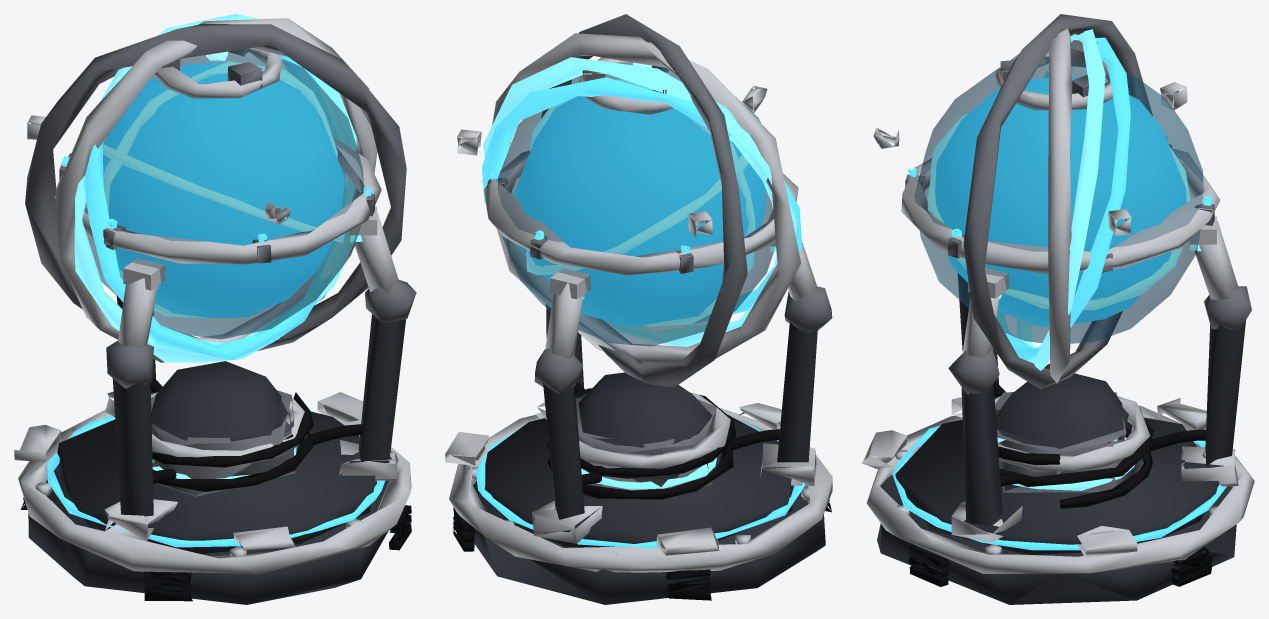
File: orb.glb
The picture shows the model from 3 angles, left to right: view 1: azimuth 30°, elevation 25°; view 2: azimuth 150°, elevation 25°; view 3: azimuth 270°, elevation 25°; orthographic projection. The views are drawn at different scales.
Visible parts, largest first — view 1: orbe_cascara, orbe_plasma, jaula_3, base_hombro, base_aro, jaula_1, base, pedestal_copa, banda, jaula_4, jaula_2, garra_baja_3 (+21 smaller); view 2: orbe_cascara, orbe_plasma, base_hombro, jaula_1, base_aro, jaula_3, base, banda, pedestal_copa, jaula_2, jaula_4, garra_baja_2 (+21 smaller); view 3: orbe_cascara, orbe_plasma, base_hombro, jaula_3, base_aro, base, banda, jaula_1, pedestal_copa, jaula_2, jaula_4, garra_baja_3 (+21 smaller).
Boxes of the visible parts, left/top/right/bottom form: orbe_cascara: left=84, top=49, right=363, bottom=339; orbe_plasma: left=103, top=62, right=345, bottom=317; jaula_3: left=25, top=24, right=406, bottom=351; base_hombro: left=55, top=411, right=375, bottom=554; base_aro: left=18, top=409, right=411, bottom=573; jaula_1: left=55, top=18, right=377, bottom=362; base: left=28, top=469, right=389, bottom=604; pedestal_copa: left=151, top=361, right=287, bottom=441; banda: left=54, top=137, right=381, bottom=264; jaula_4: left=83, top=21, right=346, bottom=360; jaula_2: left=72, top=14, right=356, bottom=362; garra_baja_3: left=353, top=314, right=405, bottom=463; orbe_cascara: left=498, top=62, right=775, bottom=346; orbe_plasma: left=514, top=96, right=765, bottom=326; base_hombro: left=484, top=414, right=792, bottom=547; jaula_1: left=482, top=33, right=800, bottom=363; base_aro: left=449, top=408, right=832, bottom=572; jaula_3: left=541, top=14, right=747, bottom=387; base: left=473, top=481, right=825, bottom=604; banda: left=483, top=150, right=798, bottom=275; pedestal_copa: left=578, top=372, right=712, bottom=447; jaula_2: left=483, top=57, right=797, bottom=346; jaula_4: left=482, top=77, right=802, bottom=325; garra_baja_2: left=777, top=322, right=817, bottom=467; orbe_cascara: left=915, top=56, right=1203, bottom=343; orbe_plasma: left=935, top=77, right=1186, bottom=327; base_hombro: left=895, top=417, right=1219, bottom=554; jaula_3: left=963, top=14, right=1152, bottom=389; base_aro: left=866, top=405, right=1254, bottom=573; base: left=877, top=475, right=1236, bottom=604; banda: left=901, top=148, right=1219, bottom=274; jaula_1: left=1048, top=28, right=1072, bottom=383; pedestal_copa: left=995, top=373, right=1128, bottom=448; jaula_2: left=1017, top=29, right=1105, bottom=370; jaula_4: left=997, top=37, right=1130, bottom=360; garra_baja_3: left=961, top=384, right=1002, bottom=526.
Size of the model in its own units: 0.6122 by 0.8557 by 0.6148.
